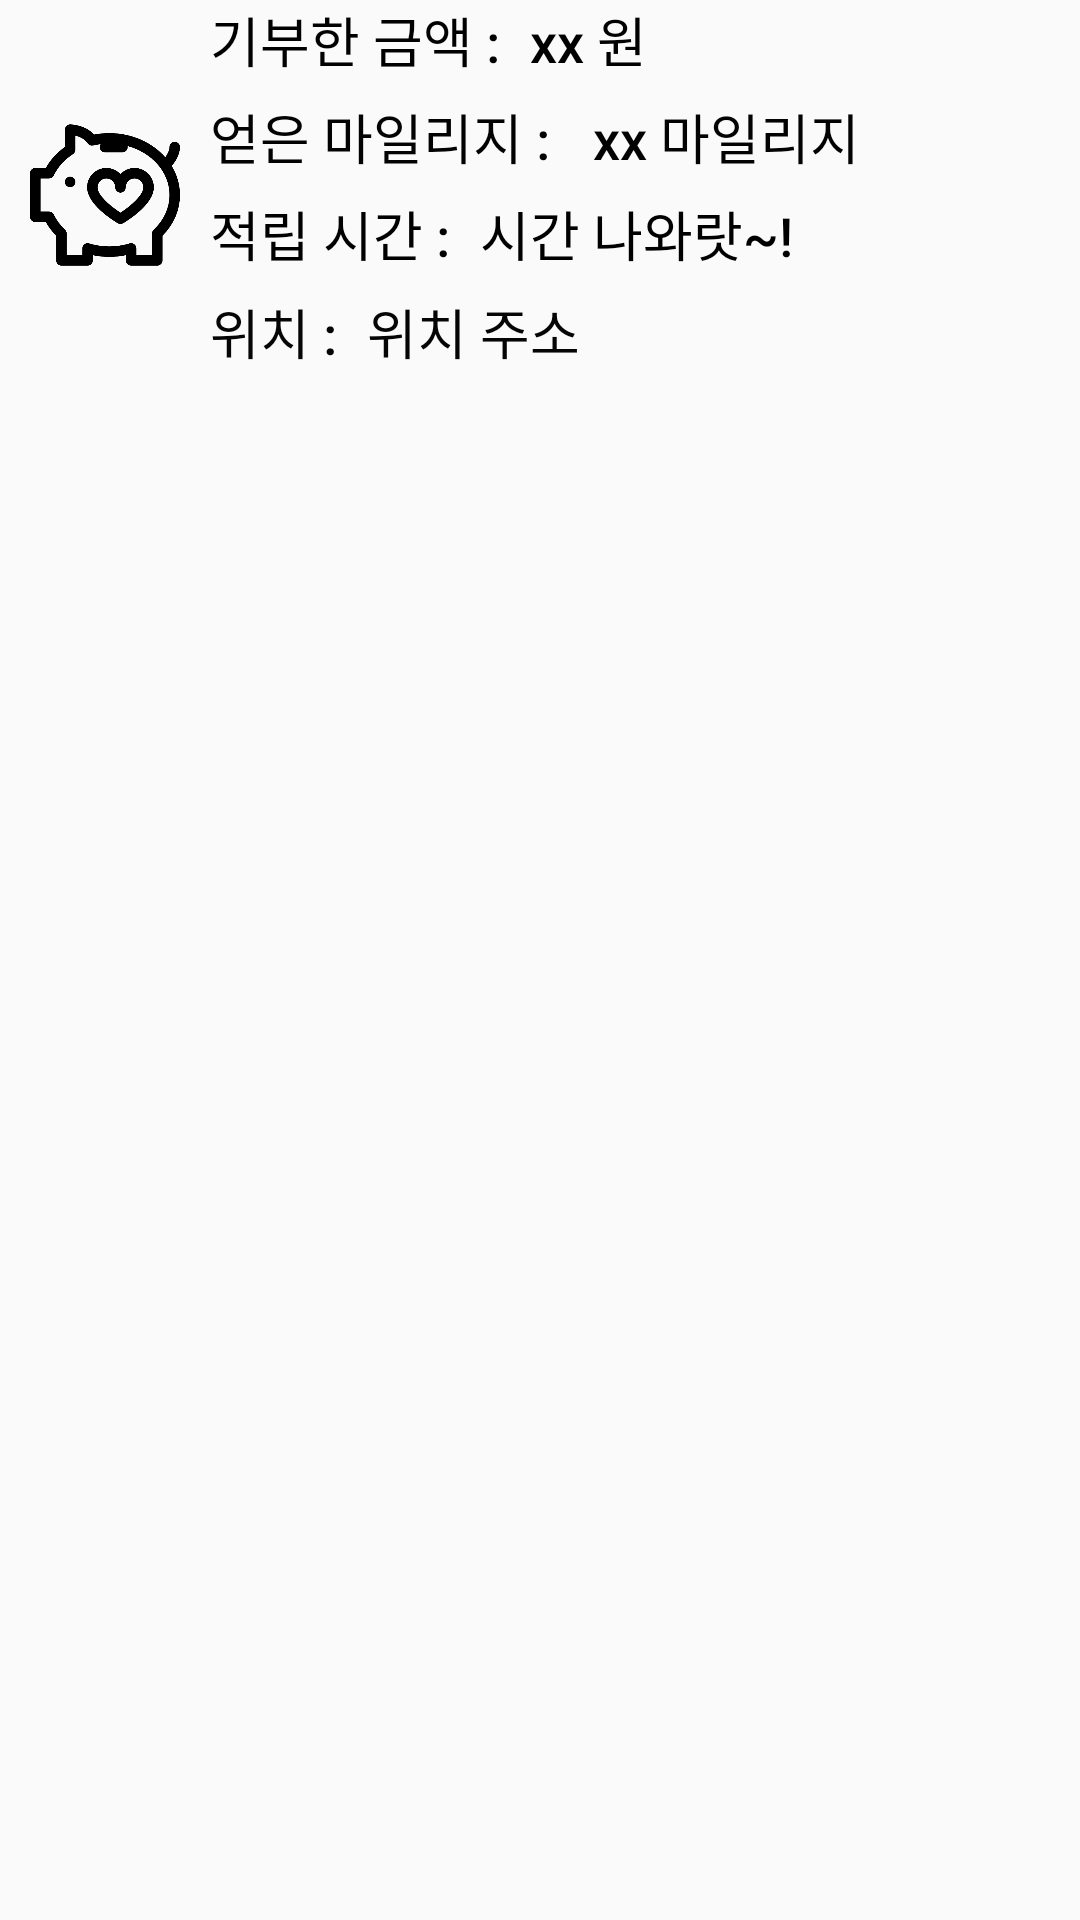

Named icons in this screenshot (1080*1920) and their bounding boxes, (x1, y1, x2, y2):
piggy bank: (30, 124, 180, 266)
